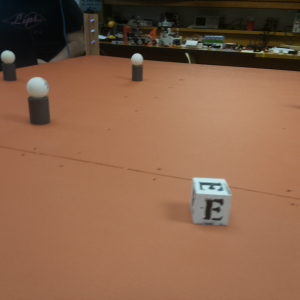blockE: (191, 176, 230, 228)
corner: (83, 14, 99, 57)
obstacle: (25, 76, 52, 126), (1, 50, 18, 82), (131, 52, 144, 83)
